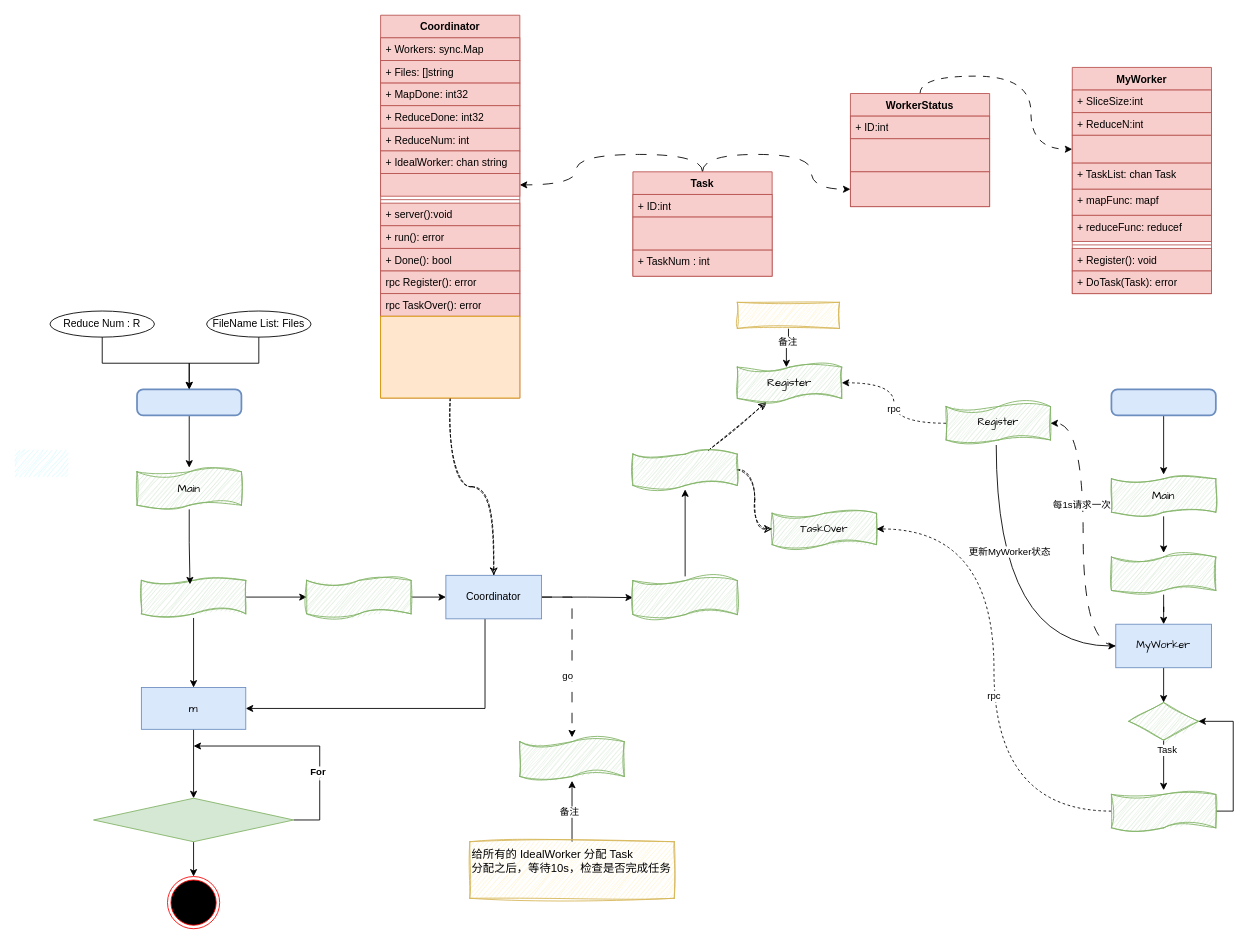
Some shapes in this 1255 by 944 pixel diagram are drawn without their labels. Each missing label, with the centre of its shape:
+ Status:int 0:空闲 1:正在运行: point (920, 155)
+ Status:WorkerStatus: point (1141, 148)
+ Task: Task 分配的任务: point (920, 189)
+ Type: int 0：Map 1：Reduce: point (702, 233)
+Tasks : chan Task: point (450, 184)
DoTask: point (1163, 810)
if Done() ？: point (193, 819)
MakeCoordinator: point (193, 596)
mrcoordinator.go: point (189, 402)
mrworker.go: point (1163, 402)
New Coordinator: point (358, 596)
rpc server: point (684, 469)
run: point (571, 758)
server: point (684, 597)
TaskList: point (1163, 721)
Worker: point (1163, 573)
备注：对于每个map任务和reduce任务，它存储状态(空闲、正在进行或已完成)和工作机器的标识(用于非空闲任务): point (450, 356)
负责分配任务: point (788, 314)
